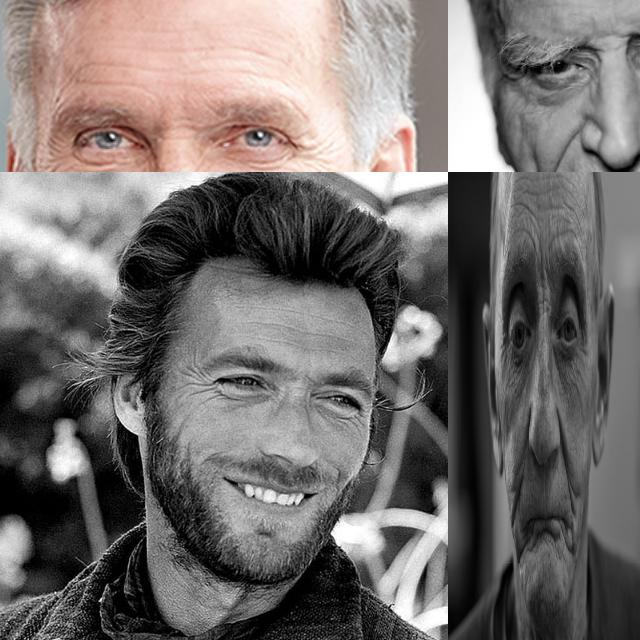chin: (546, 522, 562, 551), (530, 526, 542, 554), (518, 539, 528, 565)
crows_feet: (288, 130, 324, 172), (45, 130, 73, 172), (190, 374, 216, 398), (348, 408, 370, 430), (579, 322, 589, 363), (501, 322, 508, 358)
forehead: (253, 328, 300, 354), (306, 308, 346, 332), (263, 300, 303, 320), (314, 325, 346, 345), (547, 200, 561, 234), (518, 194, 534, 220), (566, 195, 578, 224), (567, 217, 579, 241), (524, 226, 535, 245)
frown_line: (150, 108, 196, 148), (535, 244, 551, 280), (538, 288, 549, 312)
gummy_smile: (552, 128, 578, 172), (518, 425, 530, 492), (558, 416, 568, 482), (511, 493, 518, 532), (568, 485, 576, 518)
masseter: (525, 142, 551, 172)
sad_smile: (569, 519, 574, 554)
smoker_lines: (542, 476, 548, 507)
